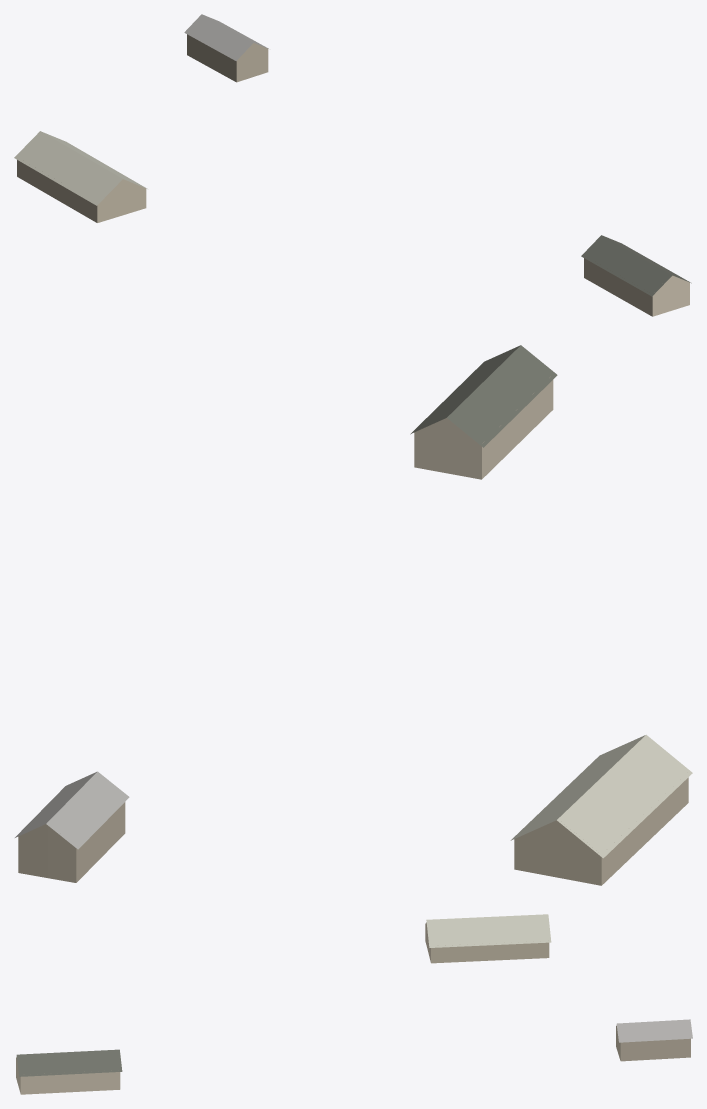
3 renders of one model, top to bottom at view 1: azimuth 30°, elevation 25°; view 2: azimuth 150°, elevation 25°; view 3: azimuth 270°, elevation 25°, orthographic. The views are drawn at different scales.
Parts seen in each view (by area): view 1: tuile; view 2: tuile; view 3: tuile.
Boxes of the visible parts, box(x1,y1,x2,y2) form: tuile: box(14, 14, 691, 316); tuile: box(15, 345, 692, 885); tuile: box(16, 914, 692, 1094).
Size of the model in its own units: 72.18 by 6.83 by 129.
